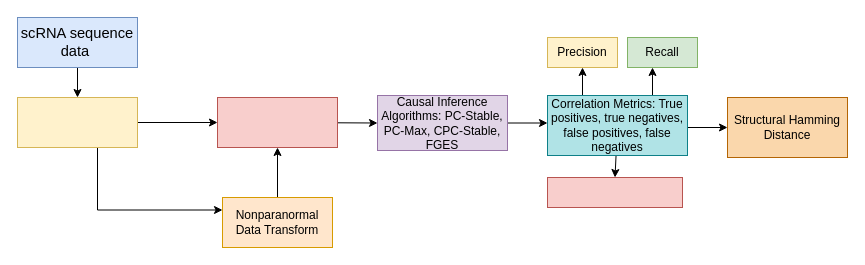
The diagram is 865 pixels wide and 265 high, and some of its shapes have lost their labels. The shapes that lost their labels are listed below. From the top down, each one's box as (x1, y1, x2, y2) in pixels, then its label:
(16, 96, 138, 148): Molecular levels and latent time
(216, 96, 338, 148): Graphical Lasso linear regression
(546, 176, 682, 208): Matthews Correlation Coefficient
